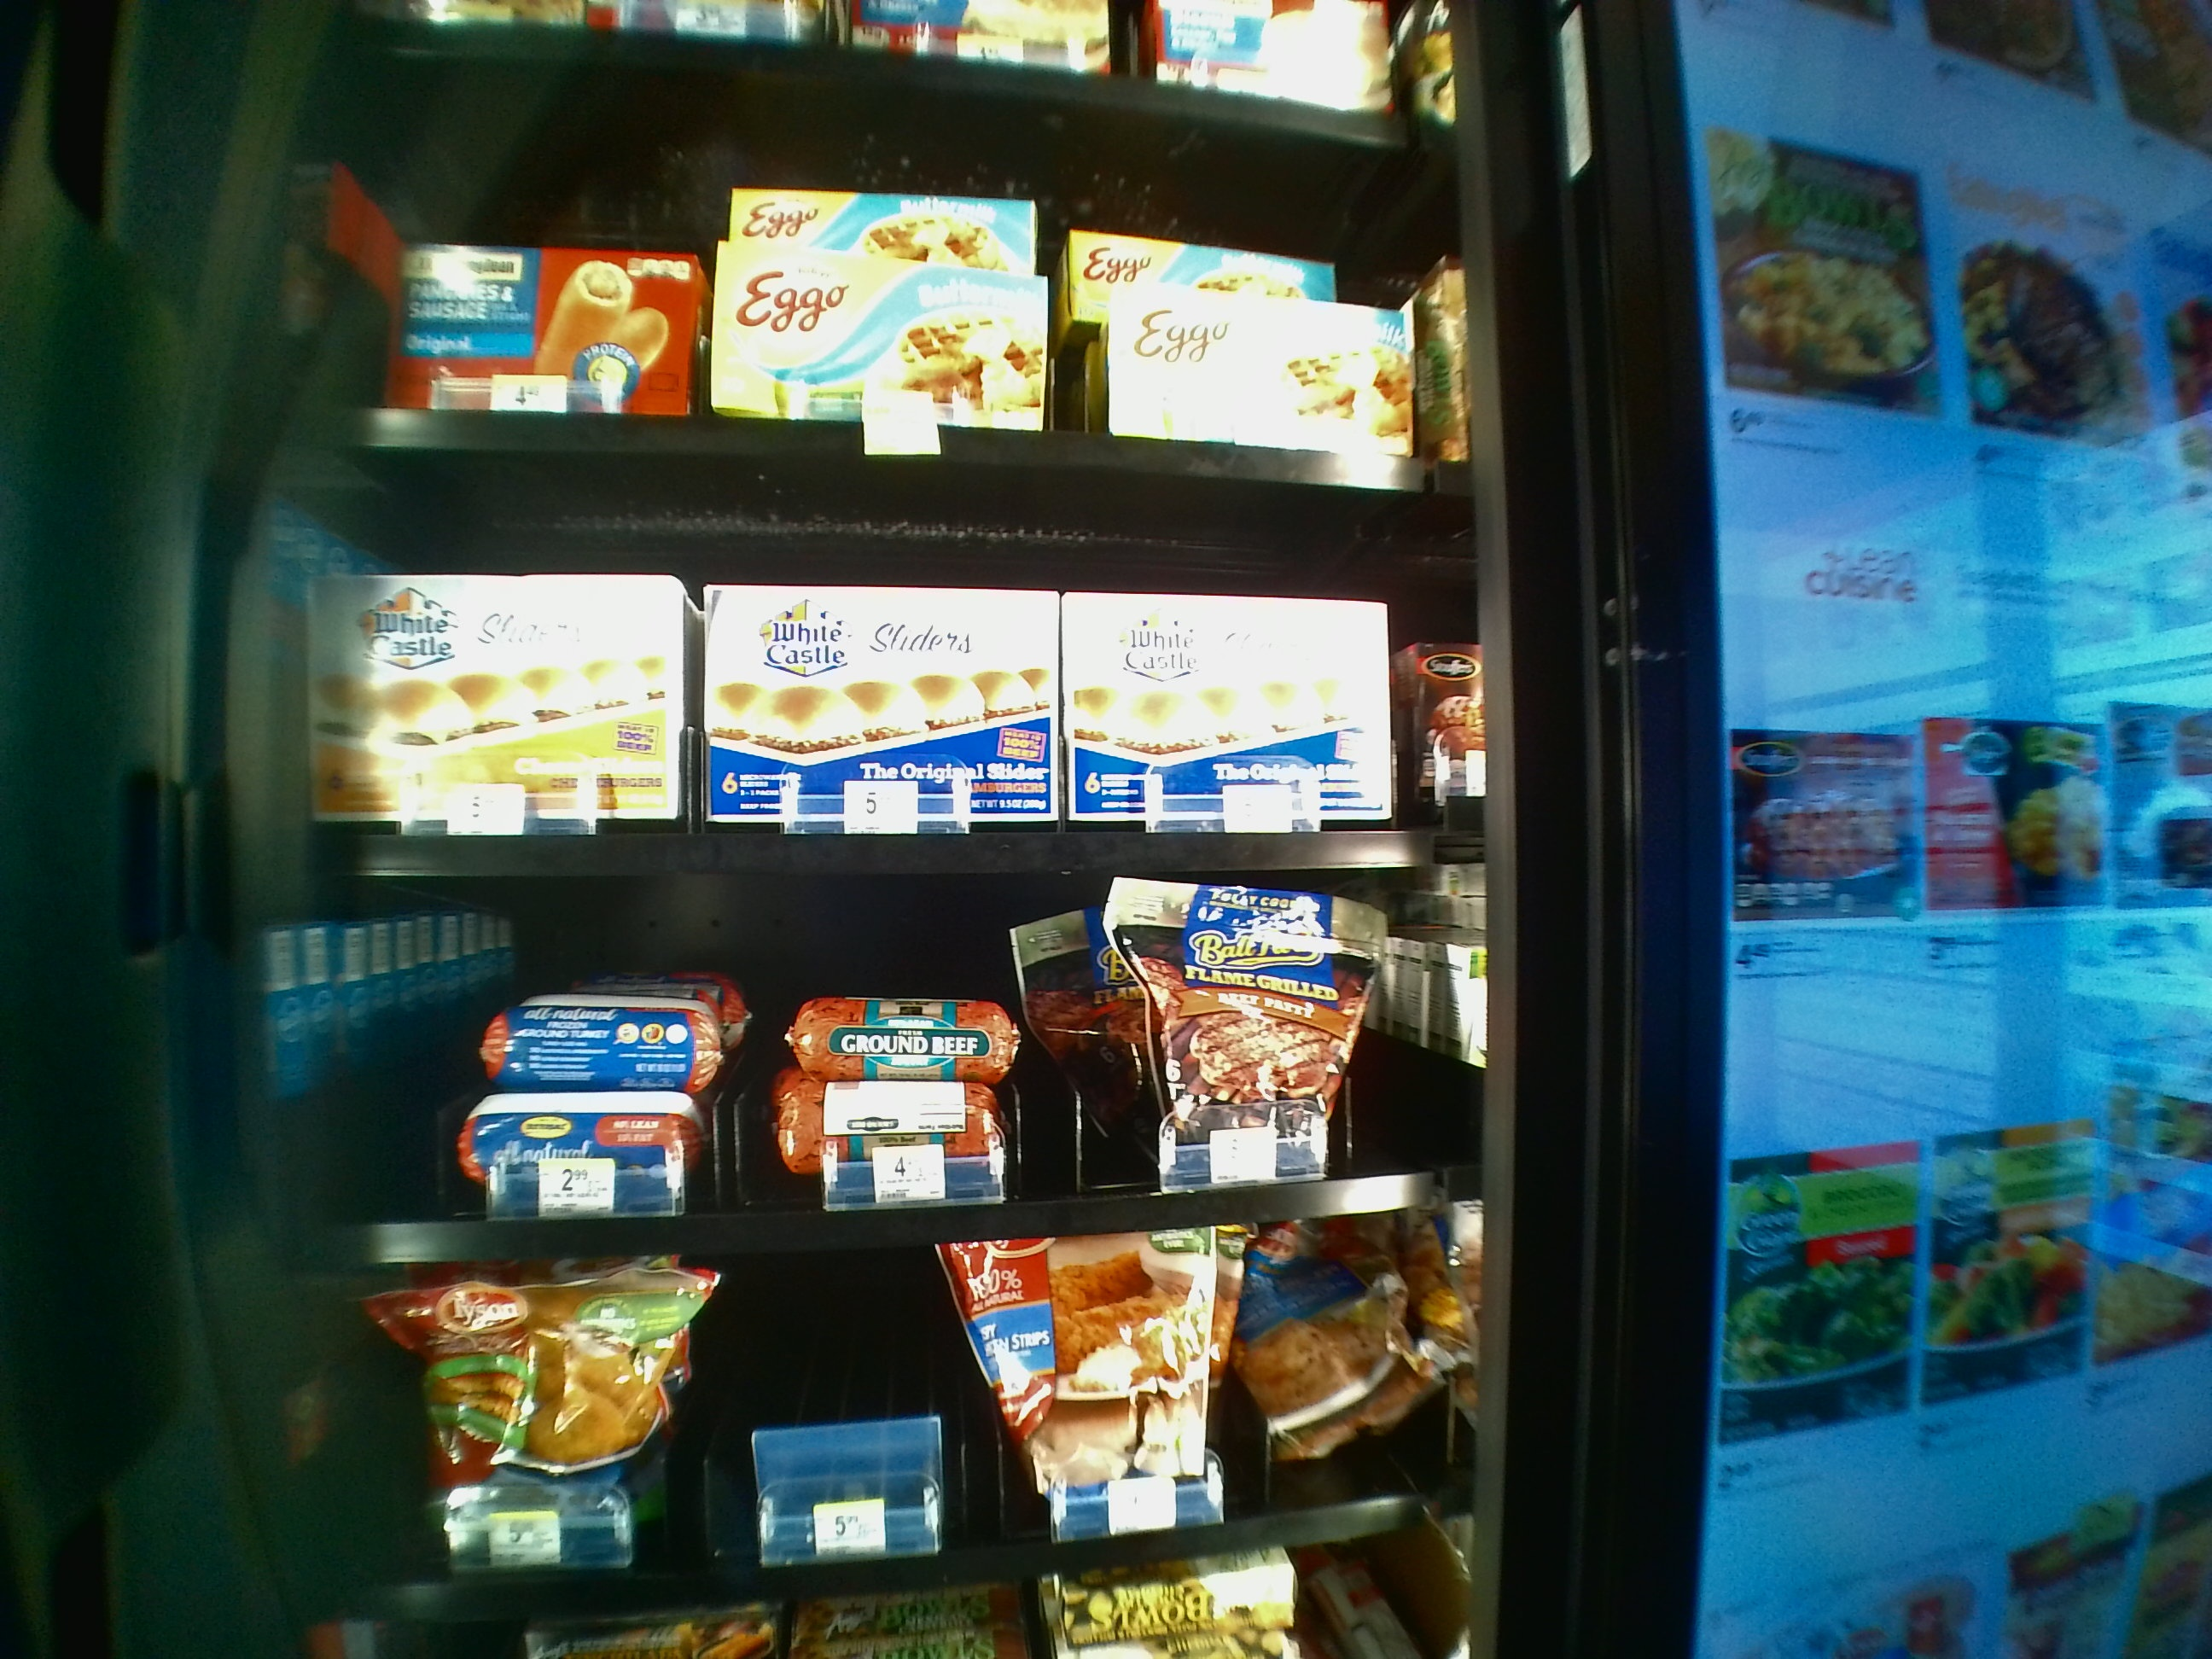shelf: (286, 450, 1480, 877), (284, 887, 1482, 1265)
